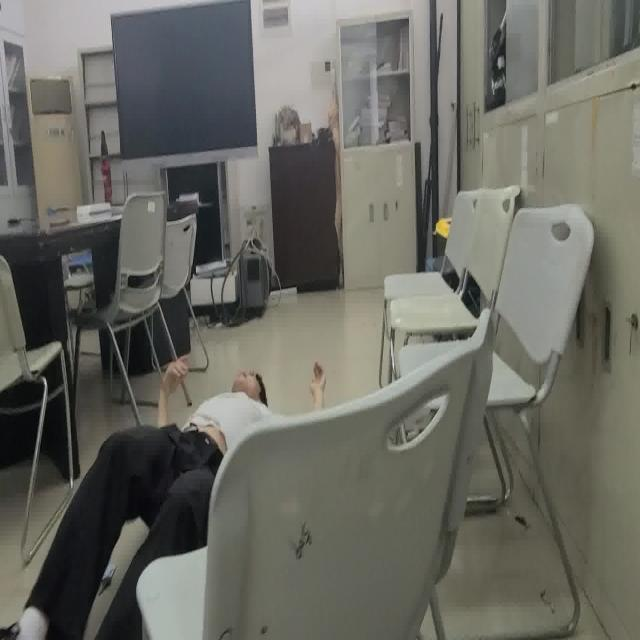fall: (1, 353, 328, 640)
